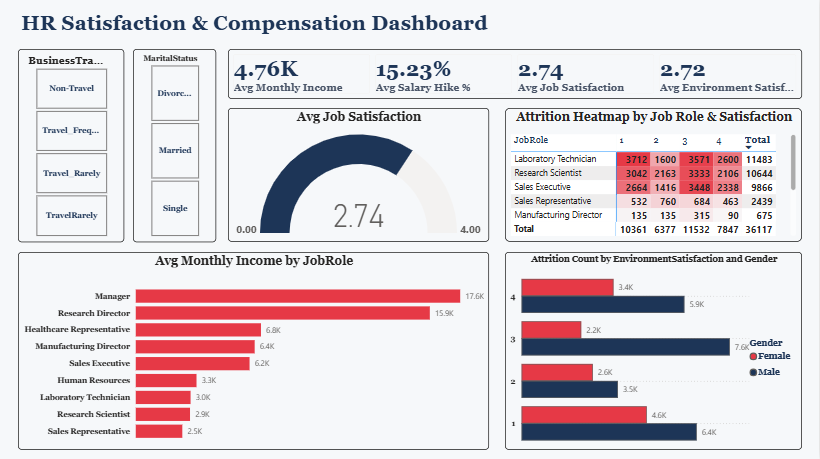

This screenshot's page, from the dashboard's own definition file:
{"tool":"powerbi","page":{"name":"HR Satisfaction & Compensation","canvas":[1280,720],"ordinal":2},"visuals":[{"type":"cardVisual","fields":{"Data":["Measure.Avg Monthly Income","Measure.Avg Salary Hike %","Measure.Avg Job Satisfaction","Measure.Avg Environment Satisfaction"]},"box":[357.8,79.7,896.9,78.1],"z":0},{"type":"textbox","box":[29.7,15.6,750,50],"z":1000},{"type":"slicer","fields":{"Values":["Fact Hr Analysis.BusinessTravel"]},"box":[29.7,79.7,165.6,301.6],"z":2000},{"type":"slicer","fields":{"Values":["Fact Hr Analysis.MaritalStatus"]},"box":[209.4,79.7,129.7,301.6],"z":3000},{"type":"clusteredBarChart","fields":{"Category":["Fact Hr Analysis.JobRole"],"Y":["Measure.Avg Monthly Income"]},"box":[29.7,396.9,735.9,309.4],"z":4000},{"type":"pivotTable","title":"Attrition Heatmap by Job Role & Satisfaction","fields":{"Values":["Measure.Attrition Count"],"Rows":["Fact Hr Analysis.JobRole"],"Columns":["Fact Hr Analysis.JobSatisfaction"]},"box":[790.6,171.9,464.1,209.4],"z":5000},{"type":"gauge","fields":{"Y":["Measure.Avg Job Satisfaction"]},"box":[357.8,171.9,407.8,209.4],"z":6000},{"type":"clusteredBarChart","fields":{"Category":["Fact Hr Analysis.EnvironmentSatisfaction"],"Y":["Measure.Attrition Count"],"Series":["Fact Hr Analysis.Gender"]},"box":[790.6,396.9,464.1,309.4],"z":7000},{"type":"actionButton","title":"Home","box":[1159.4,7.8,76.6,64.1],"z":8000}]}

Visuals, with their boxes in screenshot pixels (x1, y1, x2, y2), scaled from the page's 1280x720 canvas onto the 820x459 screenshot:
cardVisual - Measure.Avg Monthly Income x Measure.Avg Salary Hike %: (229,51,804,101)
textbox: (19,10,499,42)
slicer - Fact Hr Analysis.BusinessTravel: (19,51,125,243)
slicer - Fact Hr Analysis.MaritalStatus: (134,51,217,243)
clusteredBarChart - Fact Hr Analysis.JobRole x Measure.Avg Monthly Income: (19,253,490,450)
"Attrition Heatmap by Job Role & Satisfaction" pivotTable: (506,110,804,243)
gauge - Measure.Avg Job Satisfaction: (229,110,490,243)
clusteredBarChart - Fact Hr Analysis.EnvironmentSatisfaction x Measure.Attrition Count: (506,253,804,450)
"Home" actionButton: (743,5,792,46)
